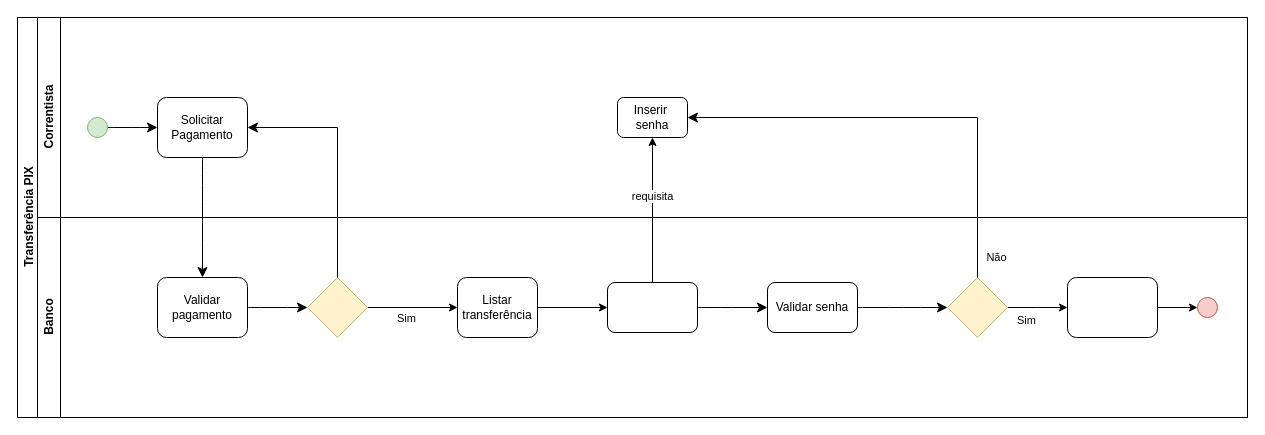
The diagram is 1265 pixels wide and 435 high, and some of its shapes have lost their labels. The shapes that lost their labels are listed below. From the top down, each one's box as (x1, y1, x2, y2) in pixels, then its label:
(306, 276, 368, 338): Válido?
(606, 282, 698, 332): Solicitar senha
(946, 276, 1008, 338): Senha válida?
(1066, 276, 1158, 338): Realizar Transferência
